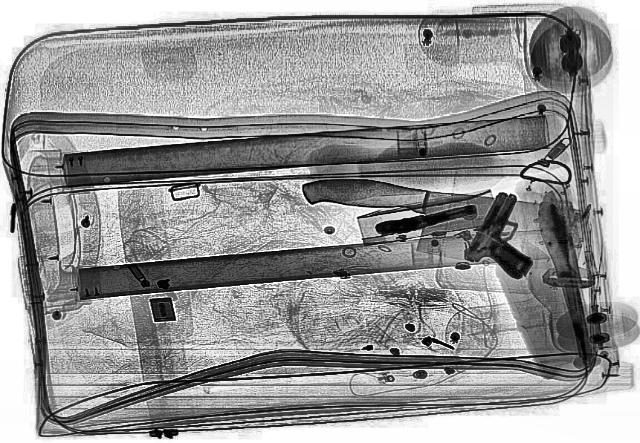Gun: (456, 189, 564, 281), (372, 204, 481, 236)
Knife: (286, 168, 598, 276), (534, 189, 598, 360)
